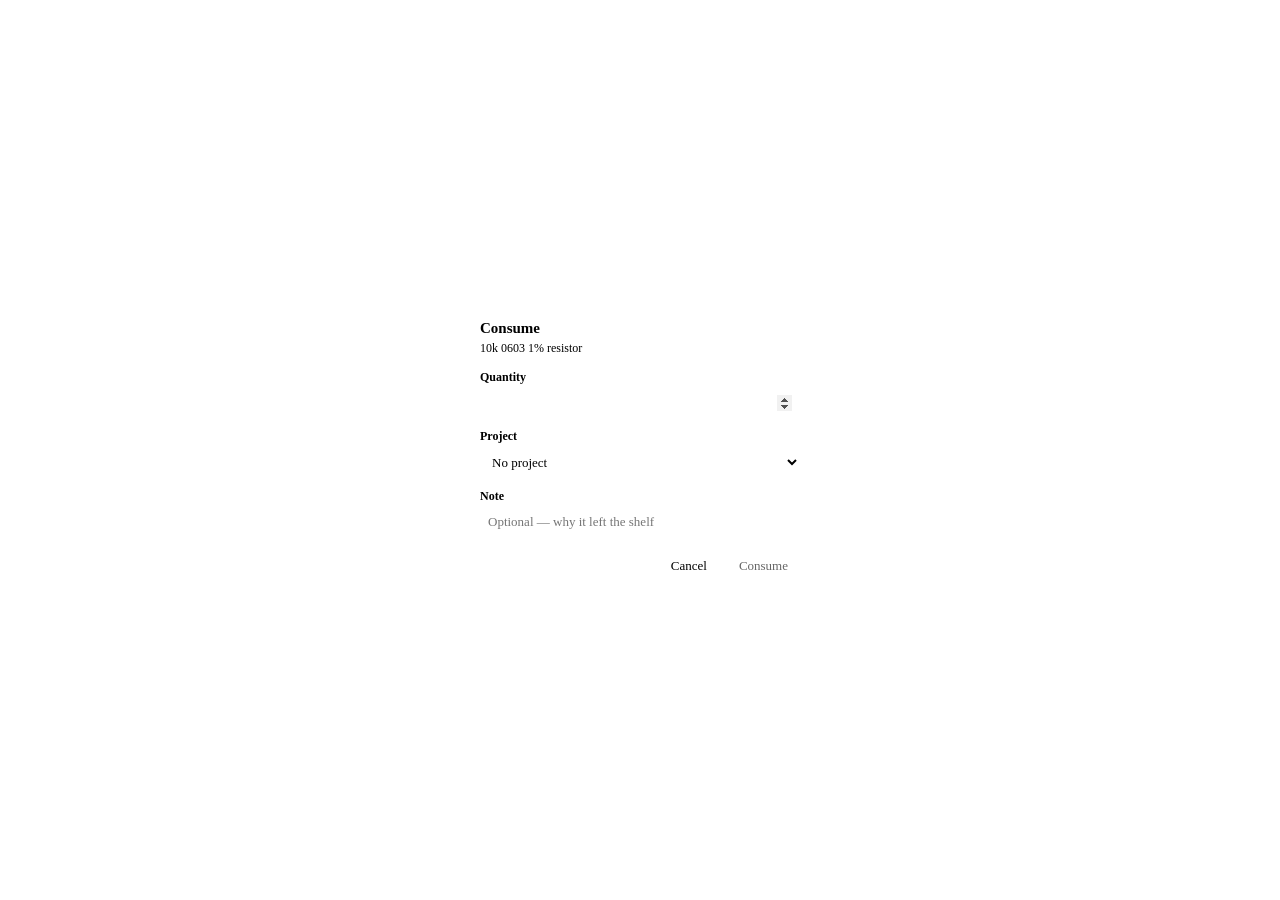
QuickAction — over-consume › surfaces the InsufficientStock message inline without closing the dialog
In the number field labelled "Quantity": (640, 403) [480,389,800,417], type "99"
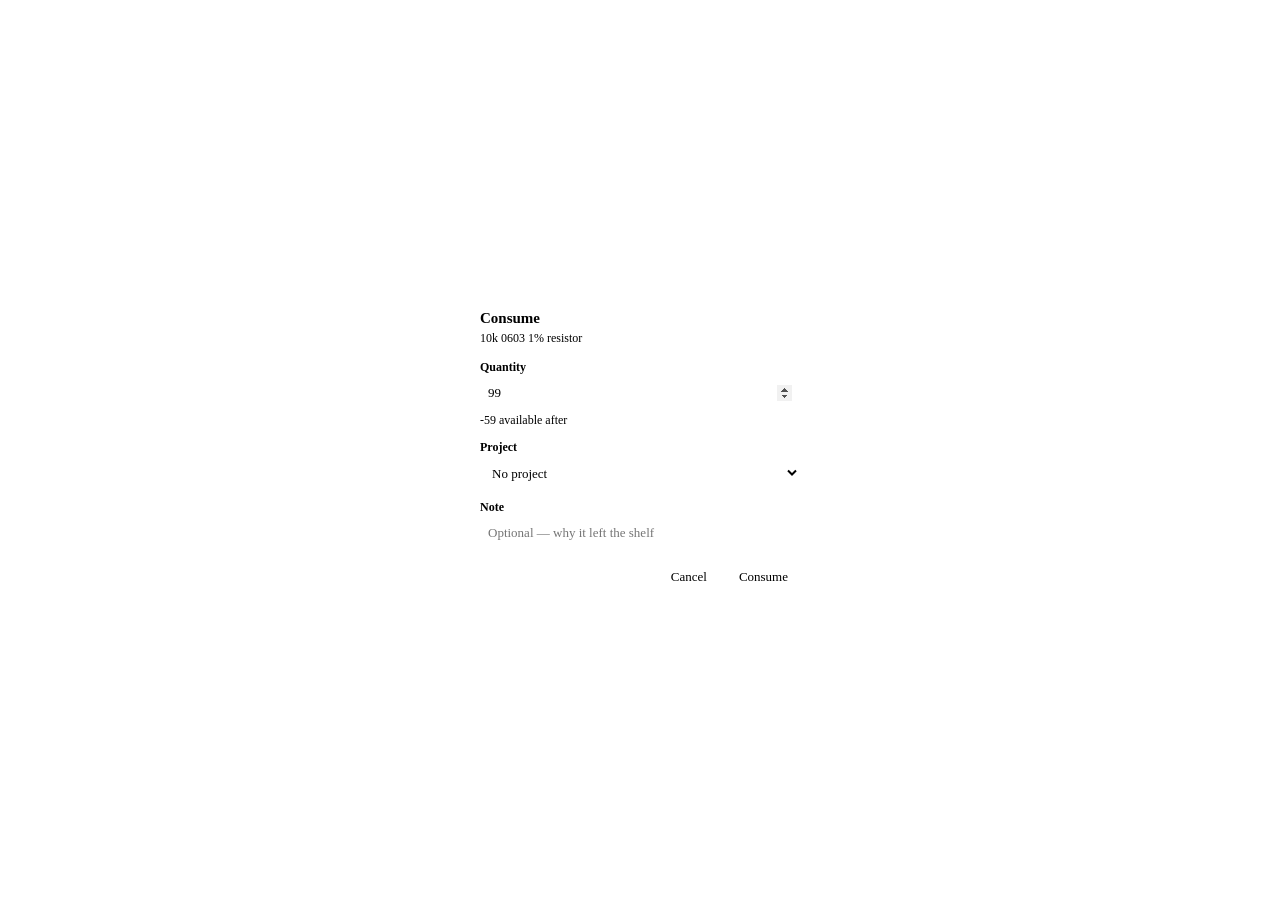
Click the button "Consume": click(763, 576) [727,562,800,590]
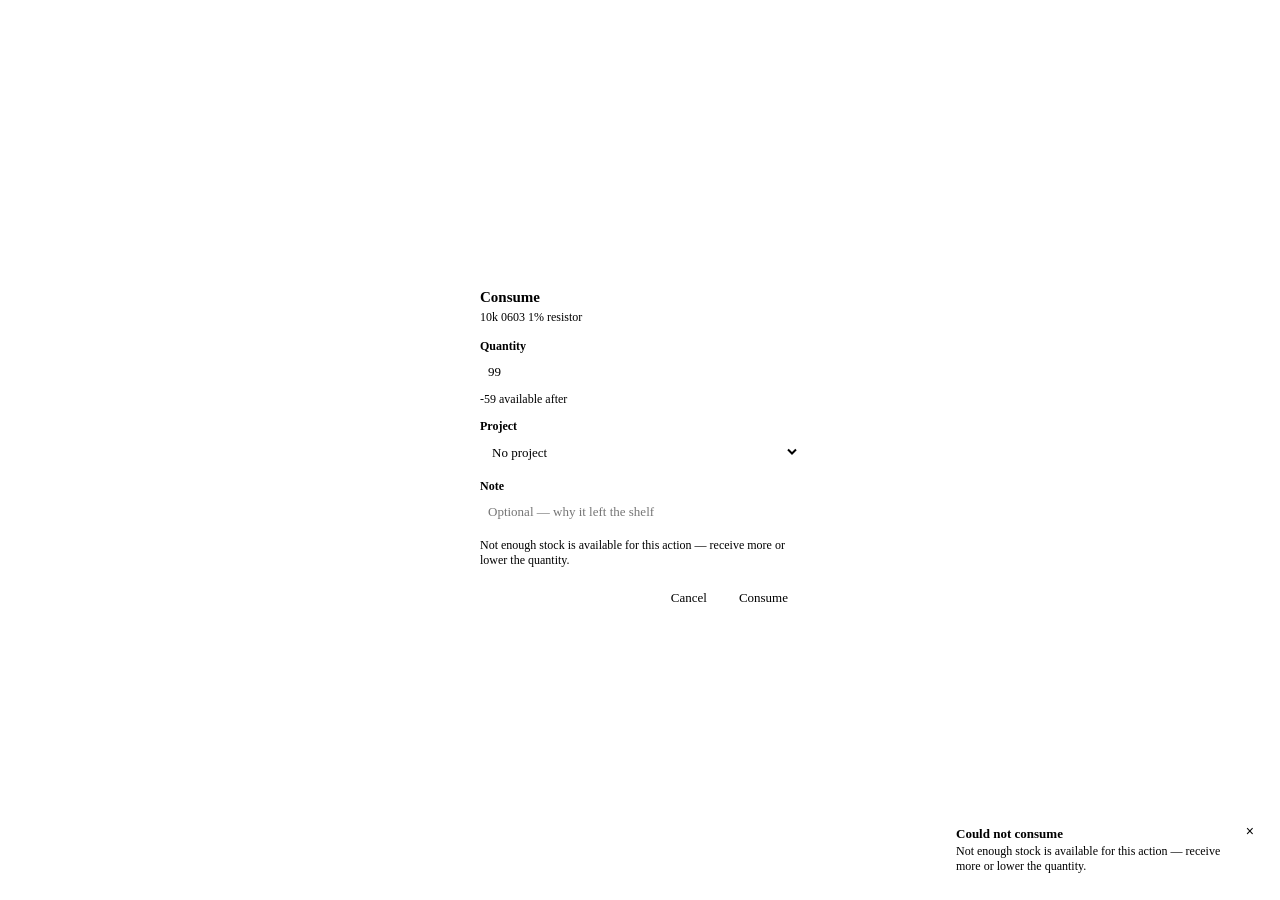
expect the text "Not enough stock is available for this action — receive more or lower the quantity." below "Note" is shown: met, box [480,538,785,566]
